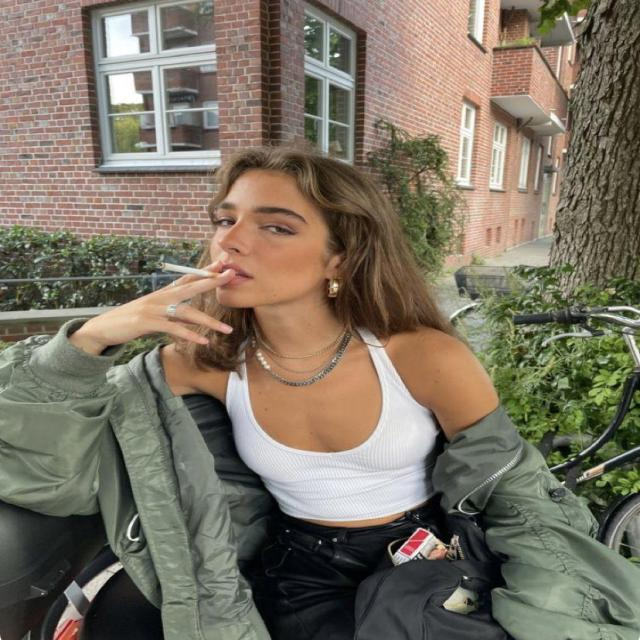cigarette: (152, 253, 268, 300)
